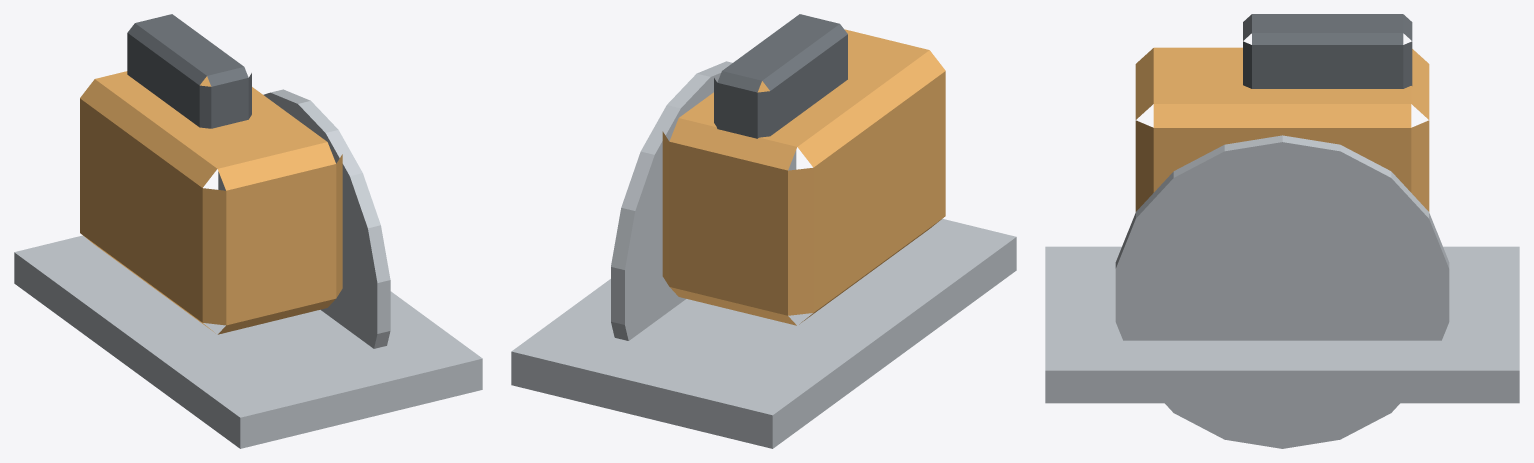
The model's file is circular_saw.glb.
The picture shows the model from 3 angles, left to right: view 1: azimuth 30°, elevation 25°; view 2: azimuth 150°, elevation 25°; view 3: azimuth 270°, elevation 25°; orthographic projection. The views are drawn at different scales.
Parts seen in each view (by area): view 1: MetalBody, HousingAccent, ErgonomicGrip; view 2: MetalBody, HousingAccent, ErgonomicGrip; view 3: MetalBody, HousingAccent, ErgonomicGrip.
Part boxes in pixels (x1,y1,x2,y2): MetalBody: (14, 89, 482, 448); HousingAccent: (80, 71, 342, 334); ErgonomicGrip: (127, 14, 251, 128); MetalBody: (511, 61, 1016, 448); HousingAccent: (662, 29, 945, 325); ErgonomicGrip: (714, 14, 847, 138); MetalBody: (1045, 135, 1519, 448); HousingAccent: (1135, 47, 1429, 211); ErgonomicGrip: (1243, 14, 1412, 88).
Size of the model in its own units: 0.26 by 0.366 by 0.42.
